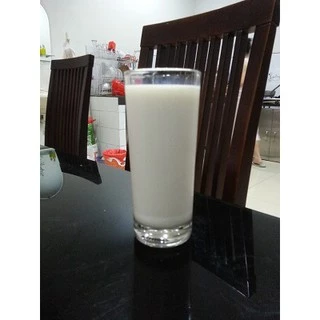produk_susu: (135, 71, 189, 229)
